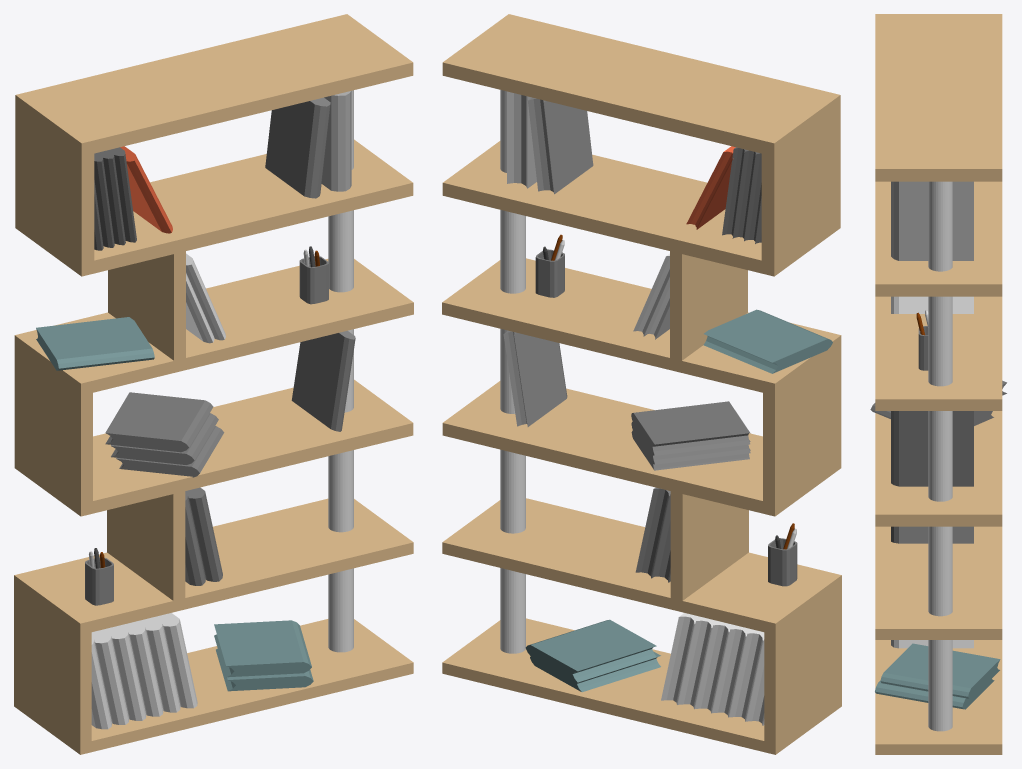
Rendered from kitaplık5.fbx.
3 renders of one model, left to right at view 1: azimuth 30°, elevation 25°; view 2: azimuth 150°, elevation 25°; view 3: azimuth 270°, elevation 25°, orthographic. The views are drawn at different scales.
Parts seen in each view (by area): view 1: Cube, Cube.010, Cube.007, Cylinder, Cube.011, Cube.005, Cube.002, Cube.009, Cube.001, Cube.008, Cube.004, Cube.006 (+3 smaller); view 2: Cube, Cube.010, Cylinder, Cube.007, Cube.011, Cube.002, Cube.005, Cube.009, Cube.001, Cube.008, Cube.004, Cube.003 (+3 smaller); view 3: Cube, Cylinder, Cube.004, Cube.009, Cube.011, Cube.008, Cube.006, Cube.012, Cube.010, Cube.007.
Boxes of the visible parts, x1,y1,x2,y2 form: Cube: (14, 14, 413, 754); Cube.010: (91, 613, 197, 729); Cube.007: (105, 392, 224, 477); Cylinder: (328, 90, 353, 652); Cube.011: (214, 620, 313, 691); Cube.005: (265, 97, 330, 198); Cube.002: (36, 317, 154, 370); Cube.009: (291, 330, 355, 431); Cube.001: (94, 147, 136, 250); Cube.008: (185, 487, 222, 585); Cube.004: (321, 91, 351, 191); Cube.006: (186, 253, 225, 343); Cube: (442, 14, 841, 754); Cube.010: (661, 613, 764, 725); Cylinder: (500, 90, 525, 653); Cube.007: (631, 401, 750, 470); Cube.011: (525, 619, 660, 692); Cube.002: (703, 309, 832, 373); Cube.005: (528, 97, 593, 194); Cube.009: (503, 330, 567, 426); Cube.001: (722, 147, 761, 243); Cube.008: (635, 487, 670, 582); Cube.004: (507, 91, 536, 188); Cube.003: (686, 146, 735, 229); Cube: (875, 14, 1002, 754); Cylinder: (928, 181, 952, 731); Cube.004: (891, 181, 973, 260); Cube.009: (891, 411, 973, 486); Cube.011: (875, 643, 1000, 709); Cube.008: (891, 526, 973, 543); Cube.006: (891, 296, 973, 313); Cube.012: (918, 326, 928, 370); Cube.010: (891, 640, 973, 648); Cube.007: (870, 380, 1006, 425).
Size of the model in its own units: 593 by 1019 by 216.
